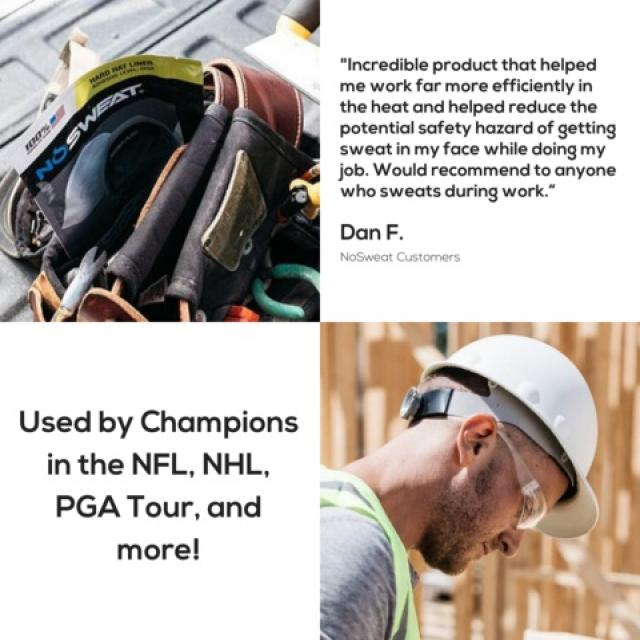Reflective-Jacket: (319, 457, 421, 640)
Safety-Helmet: (420, 331, 605, 541)
